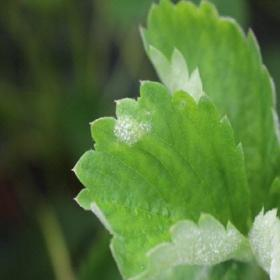Powdery Mildew Leaf: (71, 78, 255, 279), (138, 0, 279, 229), (249, 203, 279, 279)
